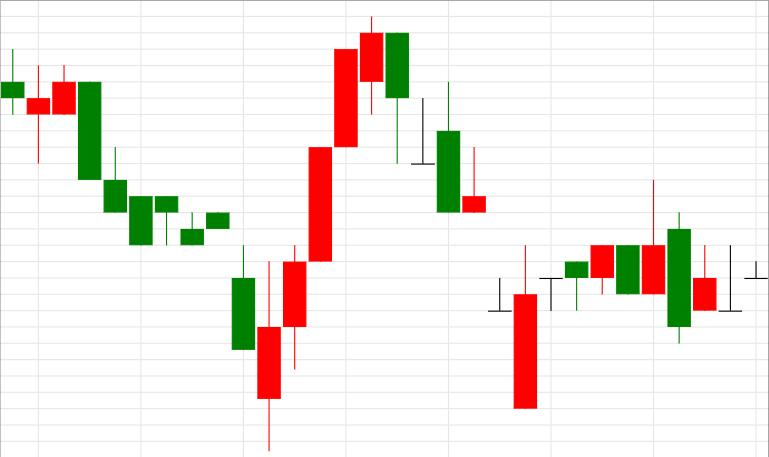bearish_engulfing_fall: (488, 180, 691, 409)
three_white_soldiers_rise: (78, 49, 357, 451)
